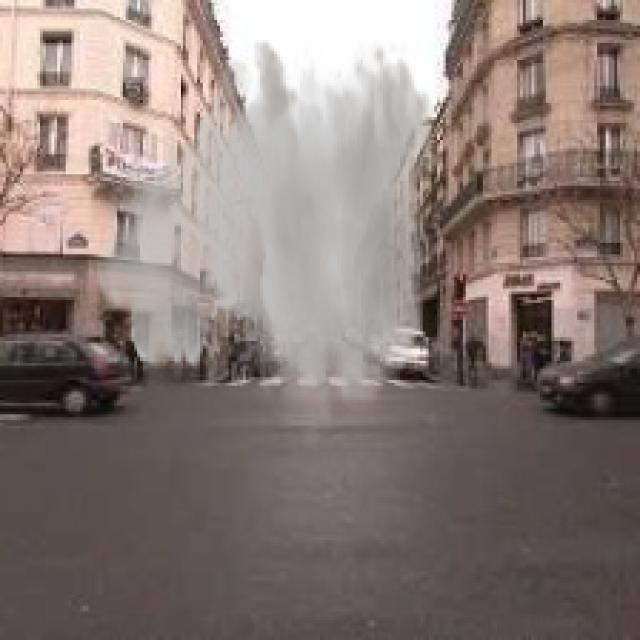Smoke: (86, 37, 434, 457)
